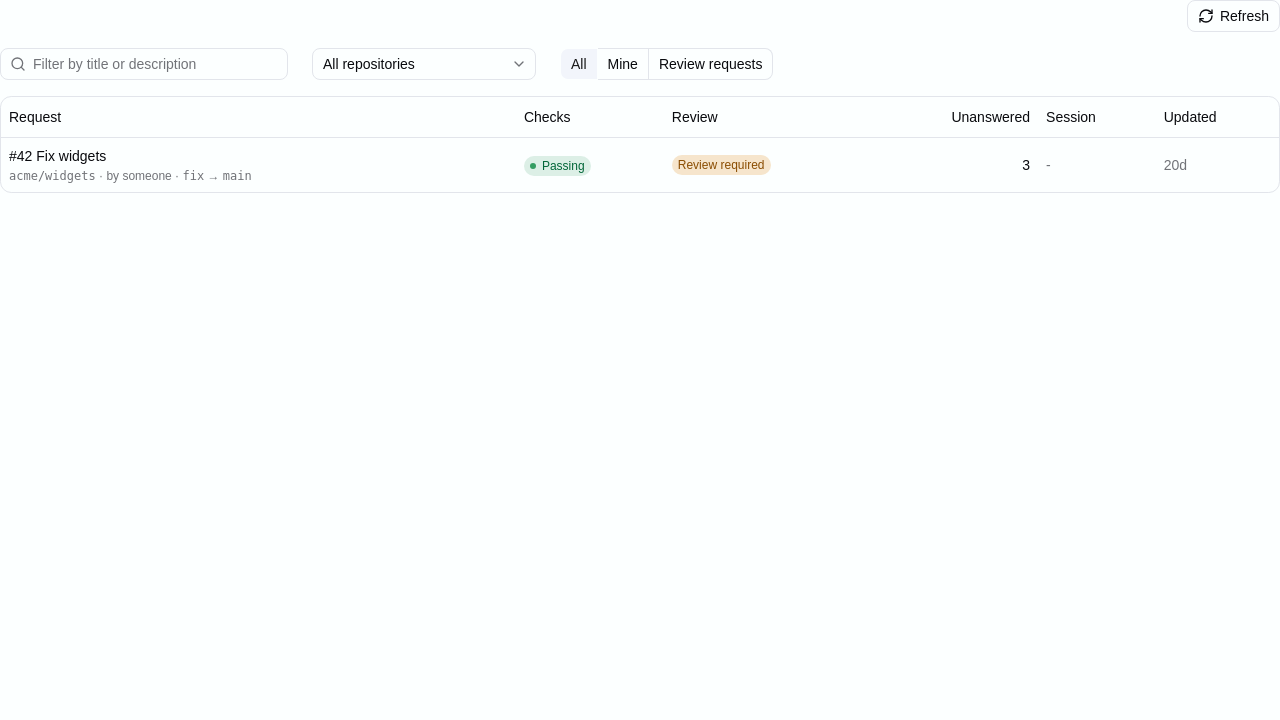
Test: renders rows, updates from an event, and opens the floating panel
Expected: the text "Passing" is shown, [524,156,591,176]
Click the row named "Open #42 Fix widgets": click(52, 176) [1,137,1279,192]
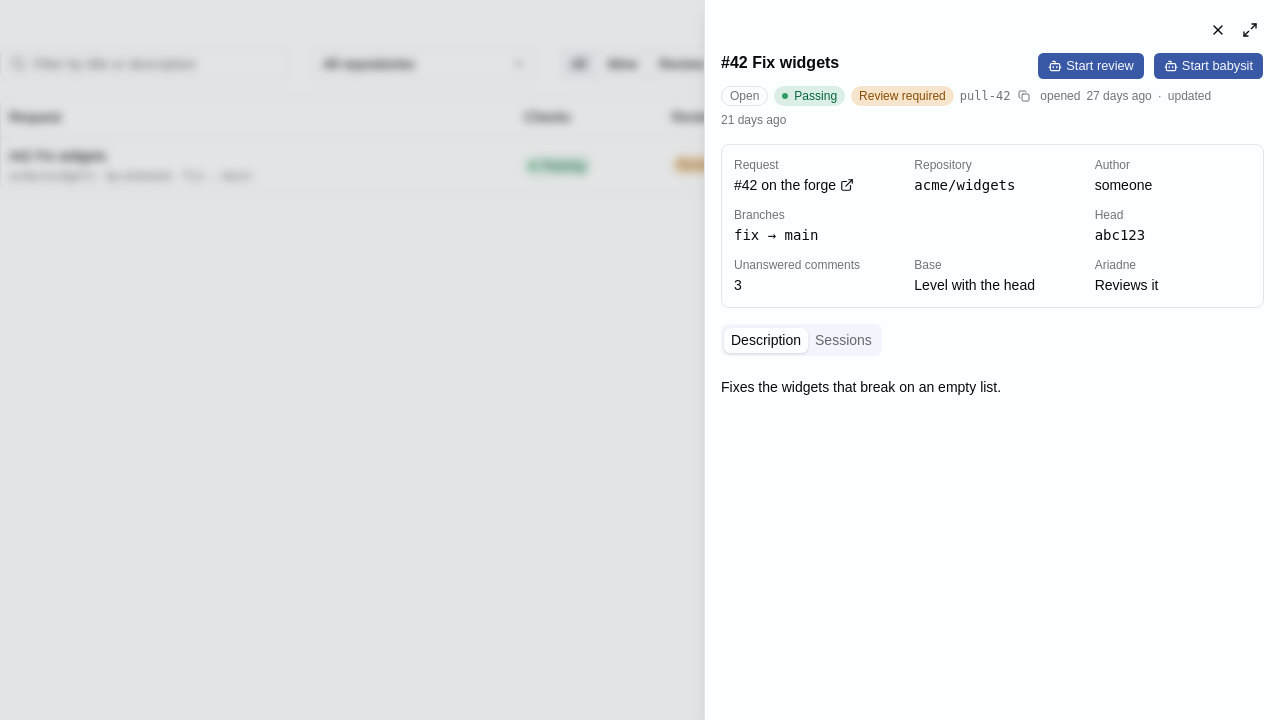
Now the text "Unanswered comments" is shown, box [734,258,860,272]
